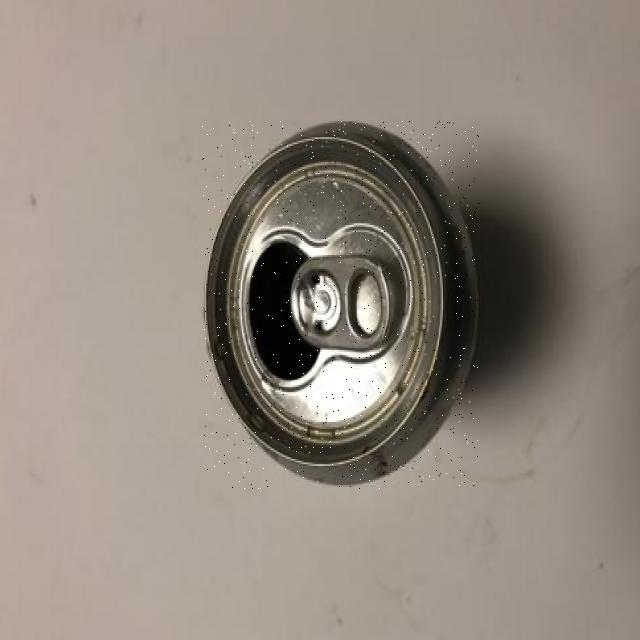metal: (202, 121, 480, 489)
